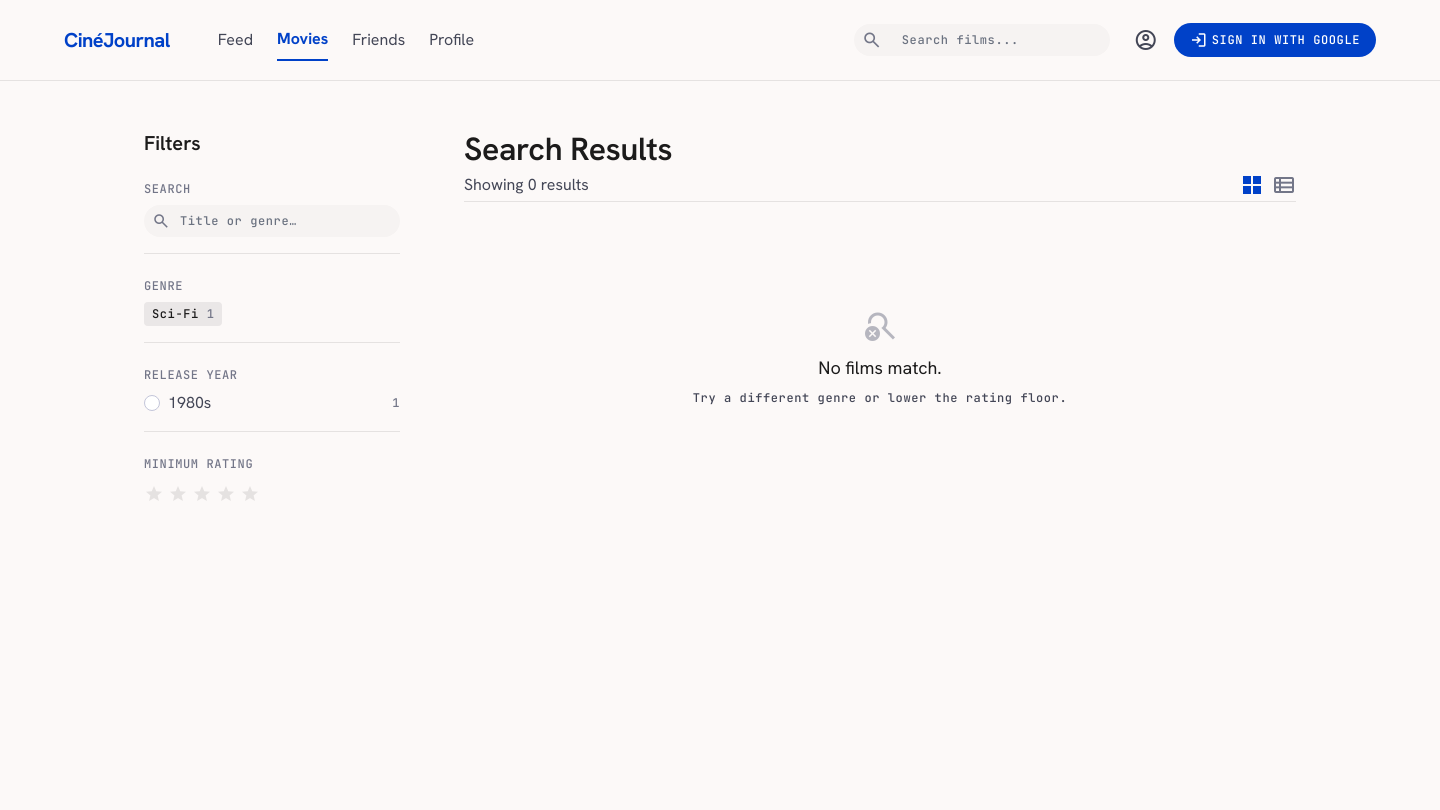
searching for films › asks the API for the typed text and draws the results
Expected: the text "No films match." is shown, [818,354,942,382]
Type "blade" into the search field with placeholder "Title or genre…" at [272, 221], box [144,205,400,237]
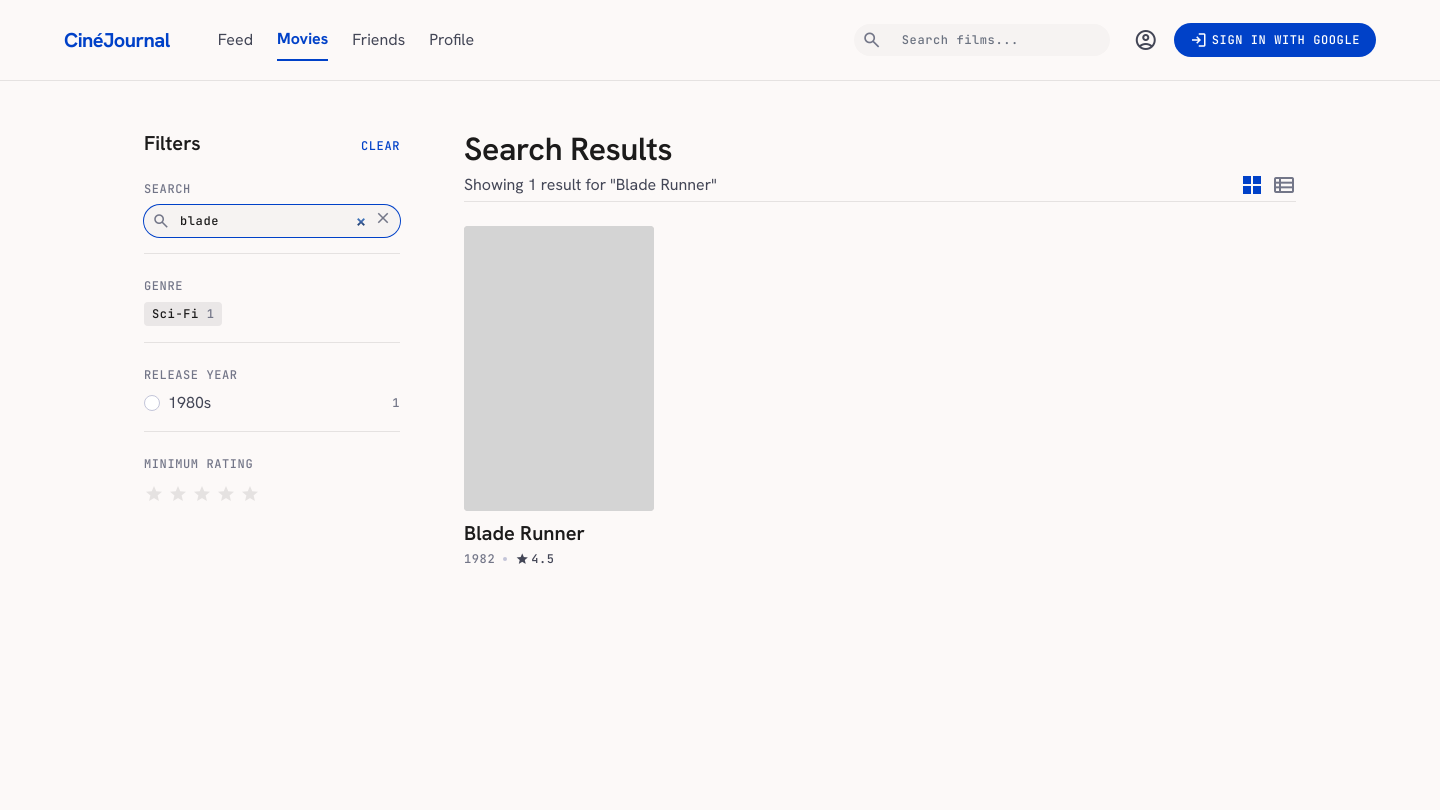
Expected: the heading "Blade Runner" is shown, [464,520,585,546]
Expected: the text "Showing 1 result for \"Blade Runner\"" is shown, [464,173,717,197]
